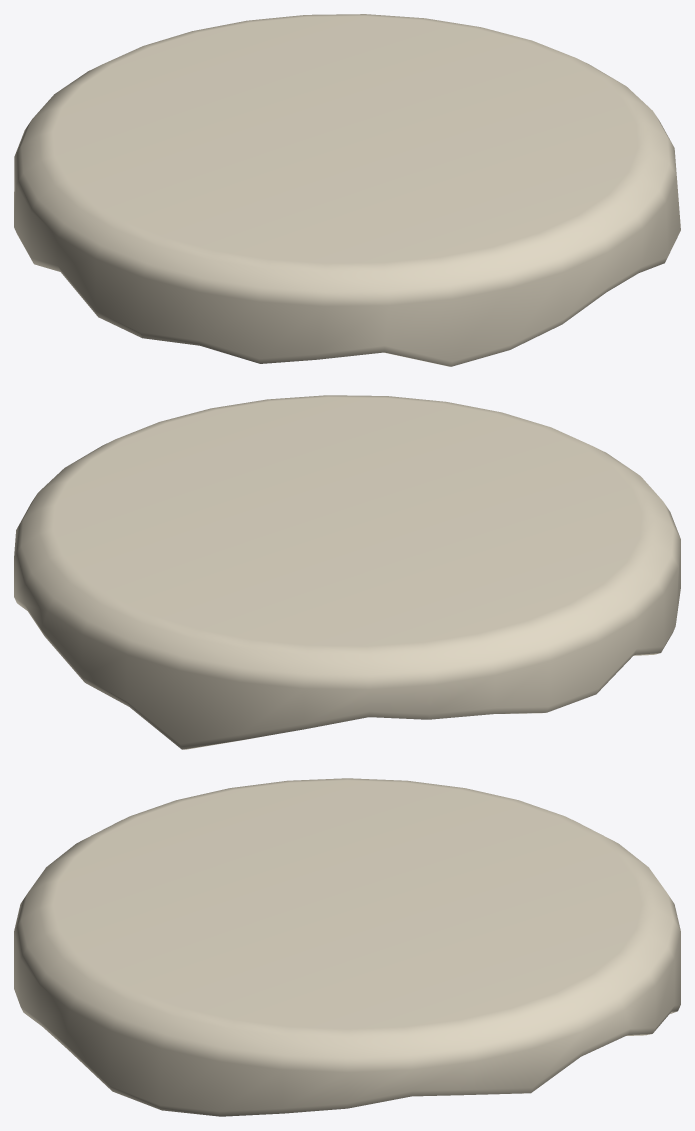
The model's file is Ara_Katman_1.fbx.
3 renders of one model, top to bottom at view 1: azimuth 30°, elevation 25°; view 2: azimuth 150°, elevation 25°; view 3: azimuth 270°, elevation 25°, orthographic.
Visible parts, largest first — view 1: p32; view 2: p32; view 3: p32.
Part boxes in pixels (bbox=[...]): p32: bbox=[14, 14, 680, 366]; p32: bbox=[14, 395, 680, 749]; p32: bbox=[14, 778, 680, 1116].
Bounding box in the file's own units: 2.1 × 0.3793 × 2.1.
